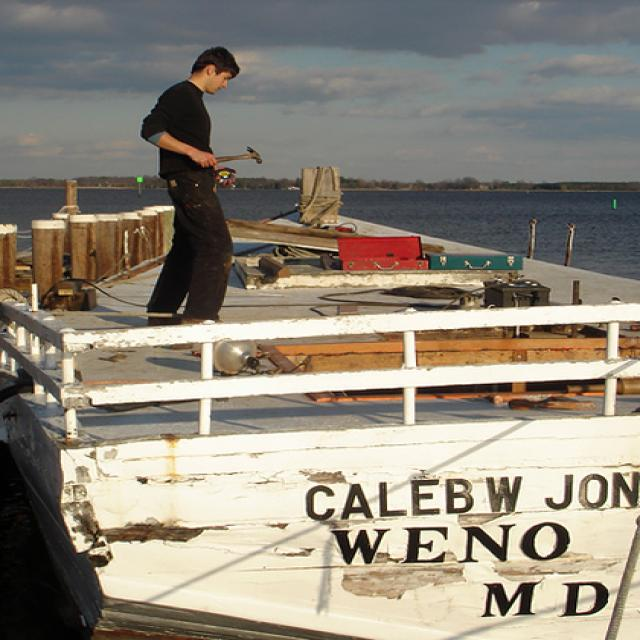hammer: (189, 127, 277, 176)
